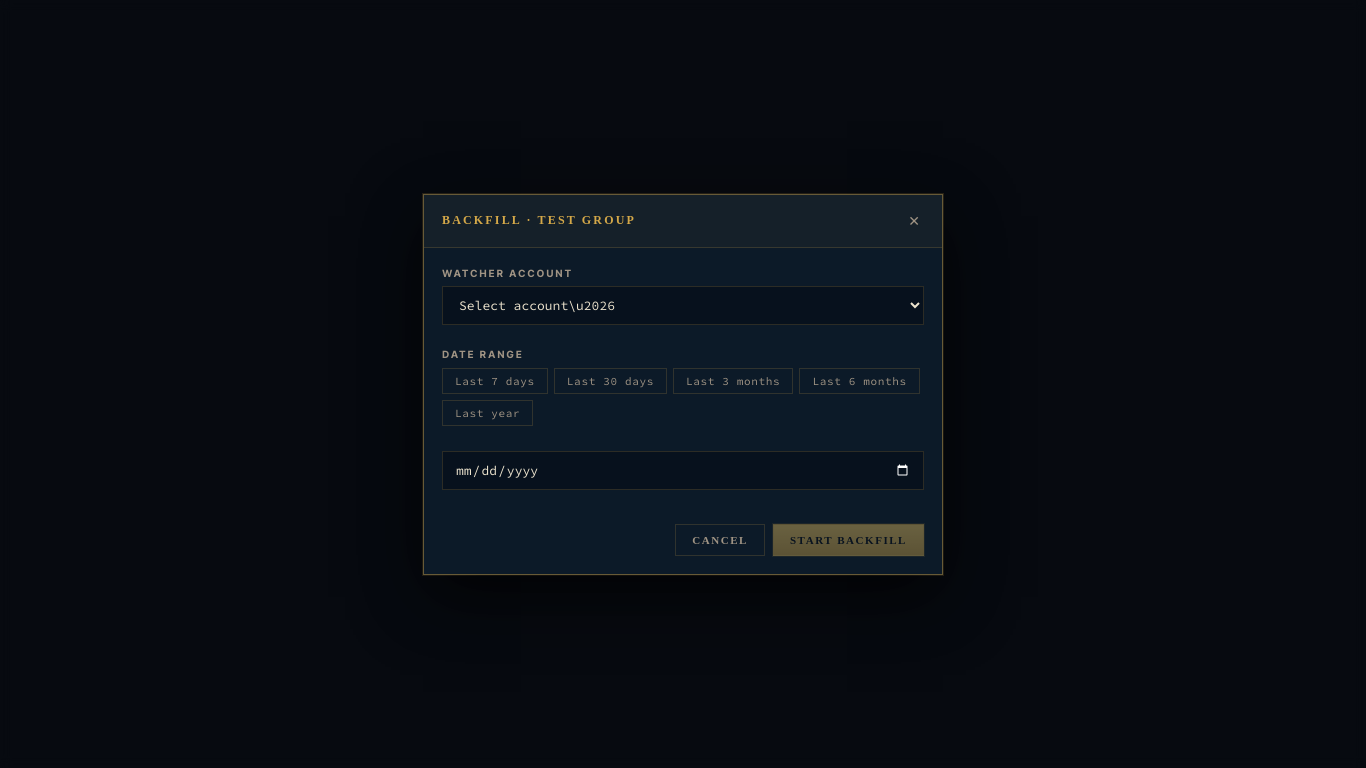
Scenario: BackfillModal › submit button disabled until account and preset selected
Expected: the button "Start Backfill" is disabled, [773, 524, 924, 556]
Select "Bot Account" in the dropdown at [683, 306], box [442, 286, 924, 325]
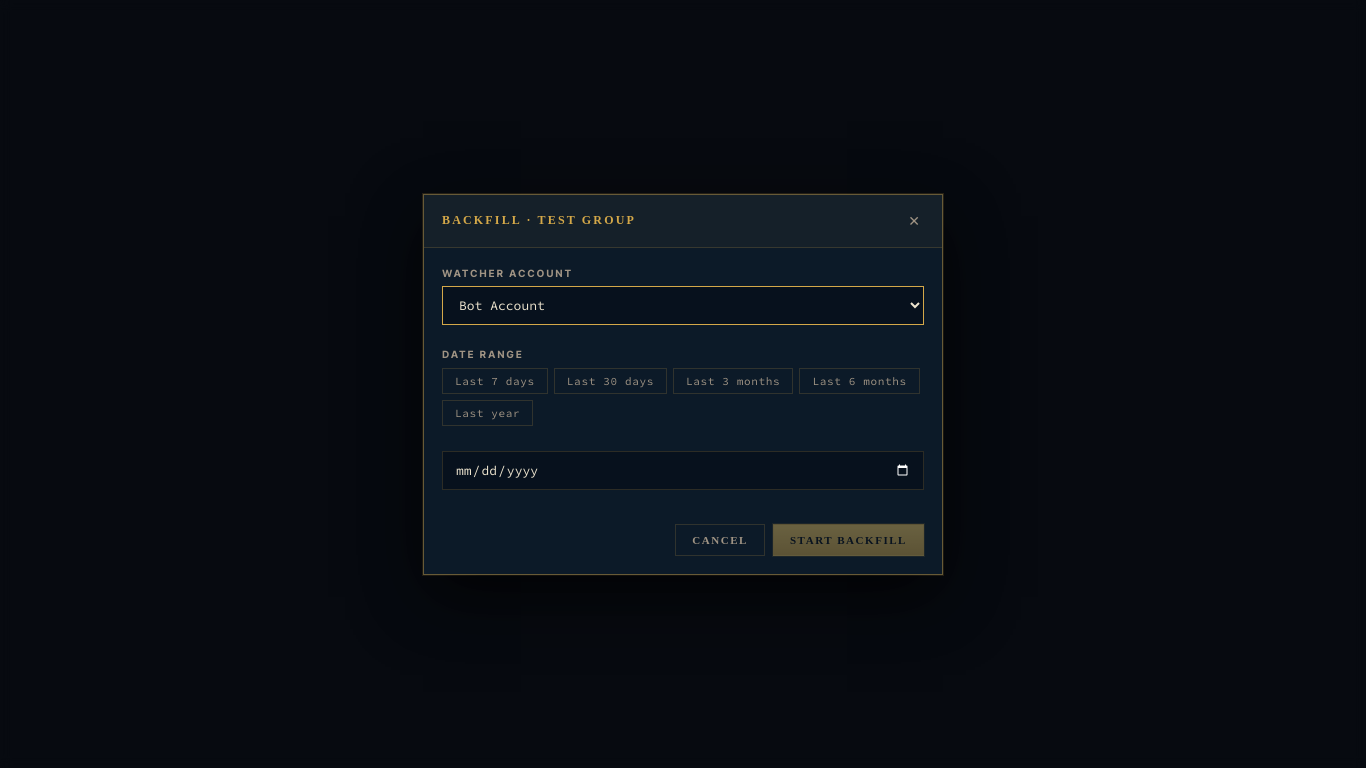
Expected: the button "Start Backfill" is disabled, [773, 524, 924, 556]
Click the button "Last 7 days" at [495, 380], box [442, 368, 548, 394]
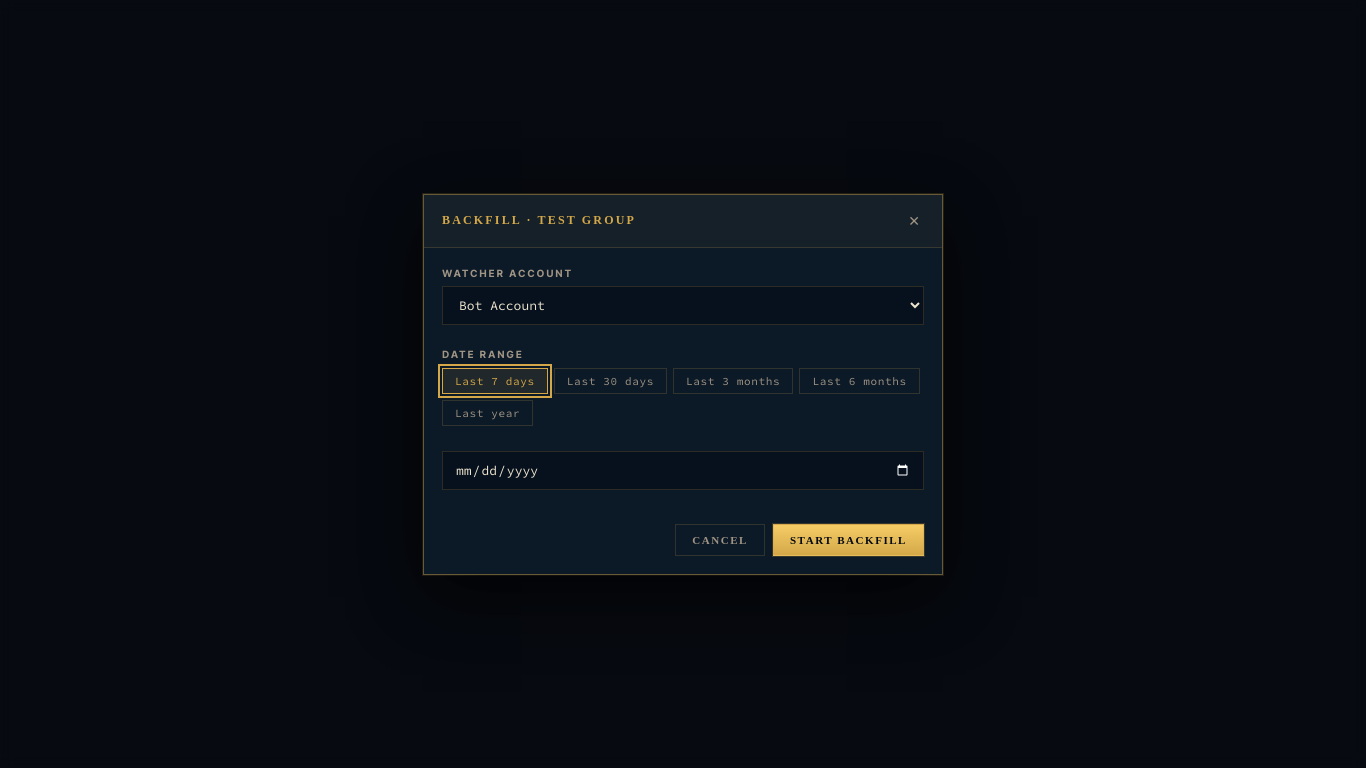
Expected: the button "Start Backfill" is enabled, [773, 524, 924, 556]
